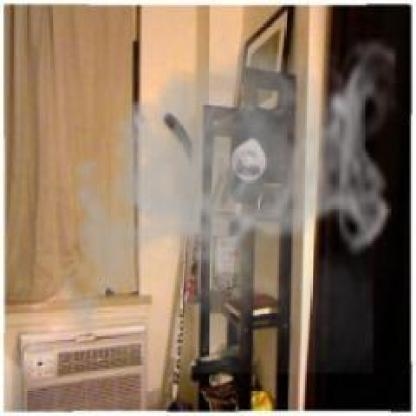Smoke: (52, 21, 395, 374)
